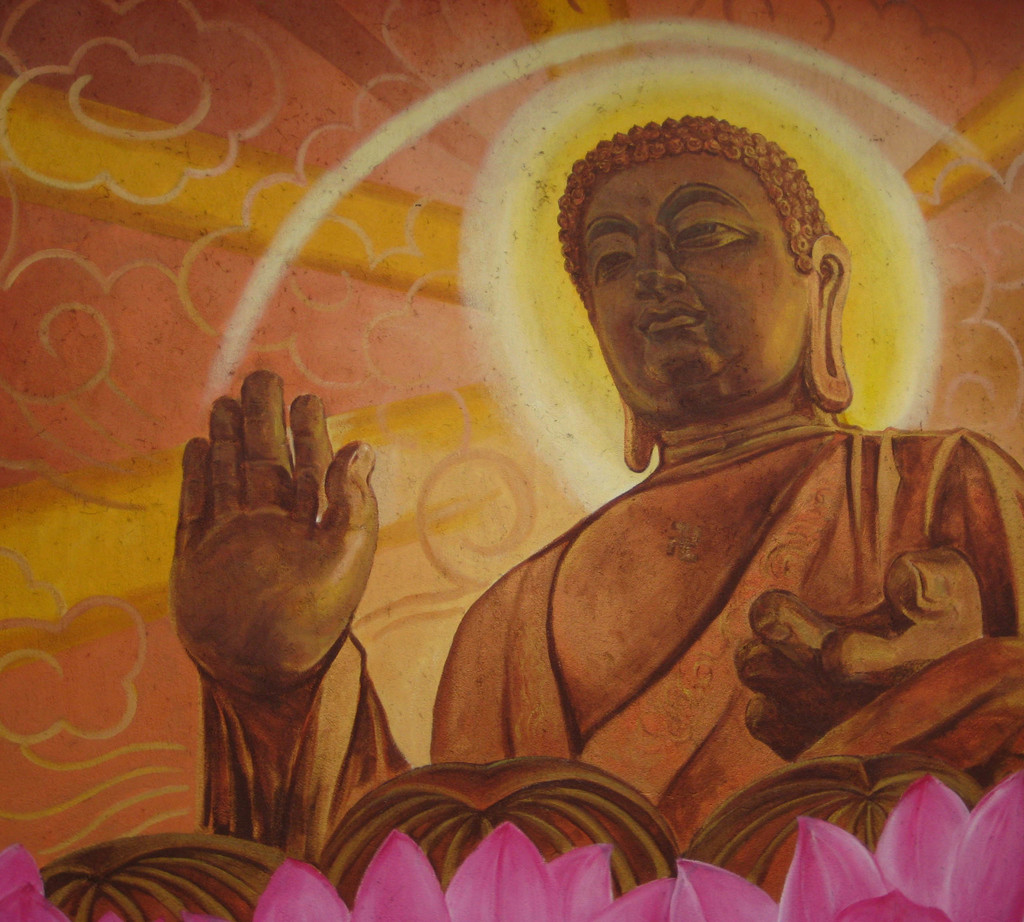Human_hand: (157, 382, 397, 771), (733, 542, 986, 764)
